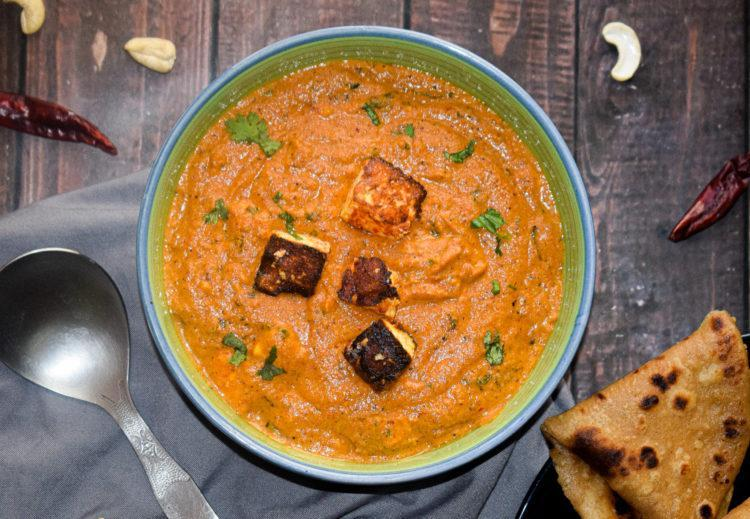paneer: (222, 172, 461, 393)
